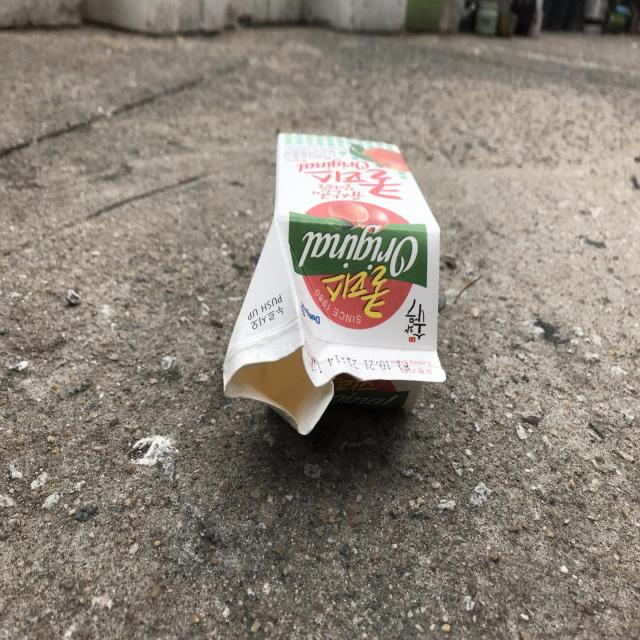paperpack: (223, 132, 446, 434)
